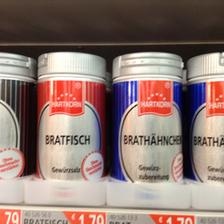Gewuerze: (110, 49, 182, 183), (36, 50, 104, 180), (185, 51, 223, 182)
